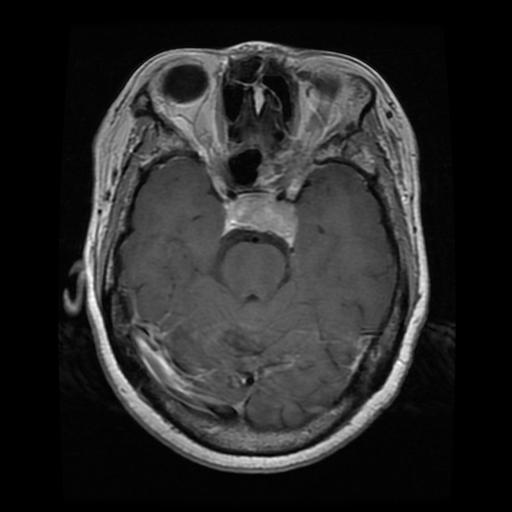Pituirity_tumour: (224, 192, 296, 238)
